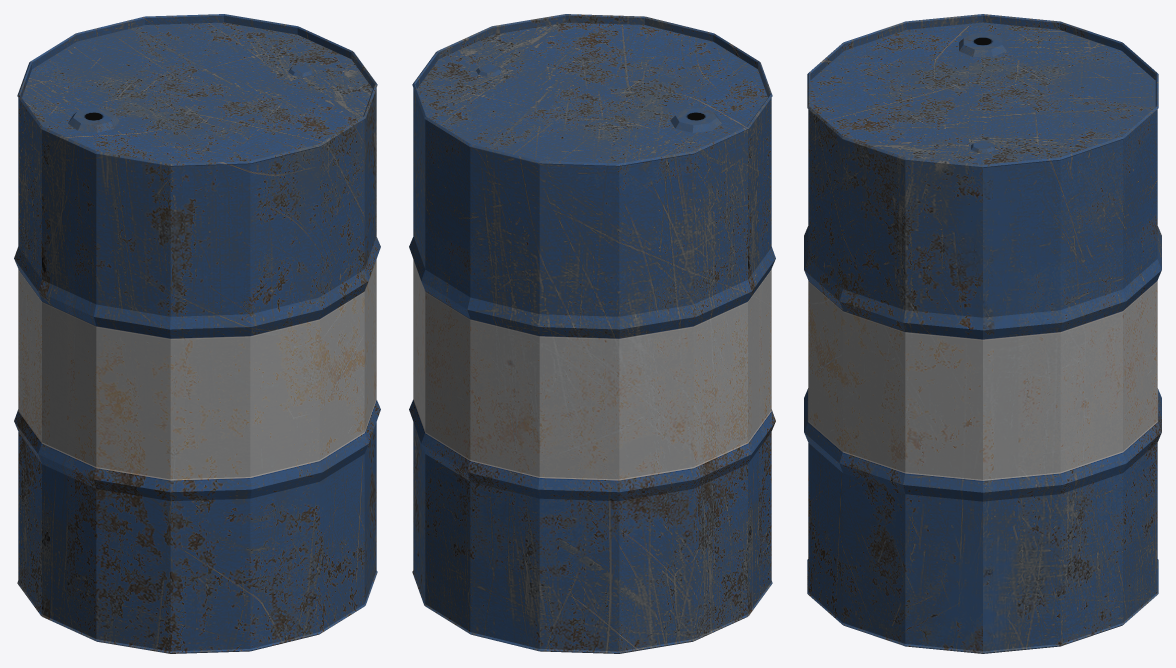
Rendered from barrelBlue.obj.
3 renders of one model, left to right at view 1: azimuth 30°, elevation 25°; view 2: azimuth 150°, elevation 25°; view 3: azimuth 270°, elevation 25°, orthographic.
Parts seen in each view (by area): view 1: metal_barrel_Untitled; view 2: metal_barrel_Untitled; view 3: metal_barrel_Untitled.
Boxes of the visible parts, x1,y1,x2,y2 form: metal_barrel_Untitled: [14, 14, 380, 653]; metal_barrel_Untitled: [409, 14, 775, 653]; metal_barrel_Untitled: [804, 14, 1161, 653].
Size of the model in its own units: 0.615 by 0.9043 by 0.5996.
